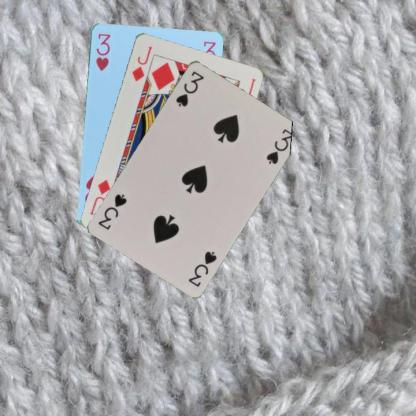3h: (93, 30, 112, 72)
3s: (173, 68, 205, 108), (186, 248, 218, 288)
Jd: (129, 43, 154, 83)
